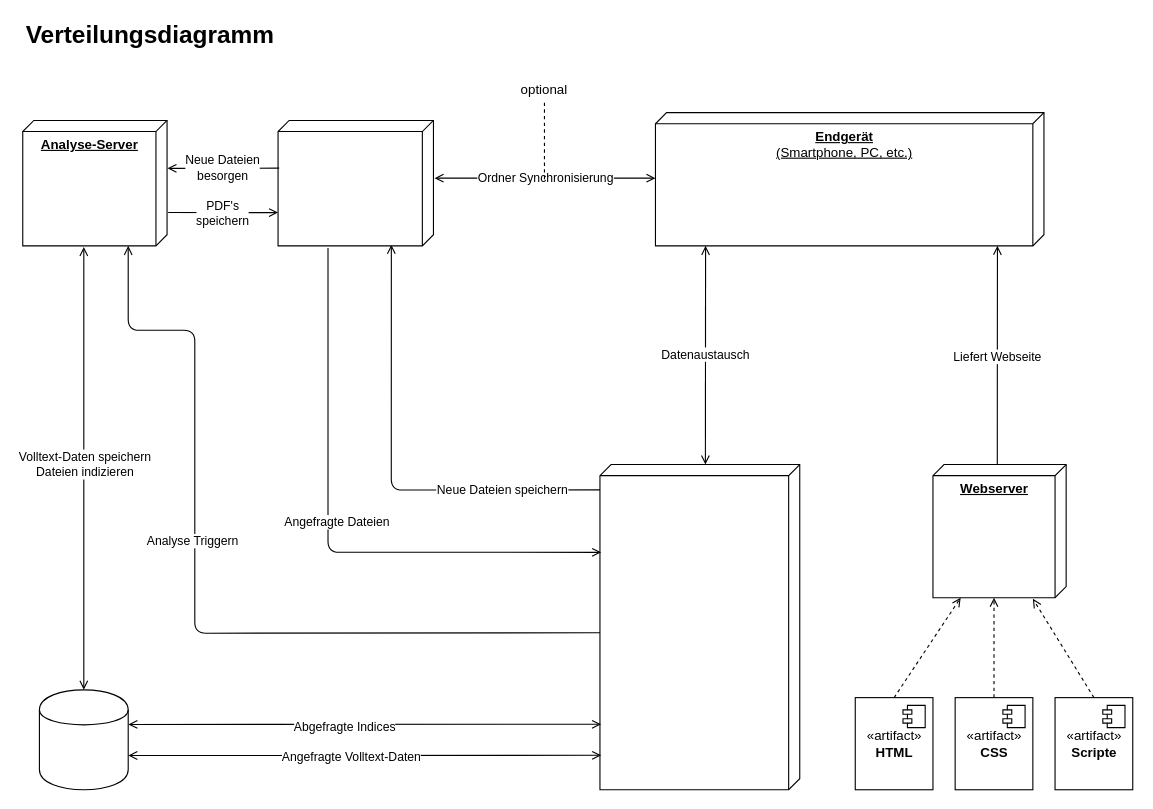
The diagram is 1153 pixels wide and 809 high, and some of its shapes have lost their labels. Each missing label, with the centre of its shape:
"Cloud-Speicher (Nextcloud o.ä.)" goes at pixel 355 182.
"Oracle DB" goes at pixel 83 739.
"REST-Server (NodeJS)" goes at pixel 699 626.
